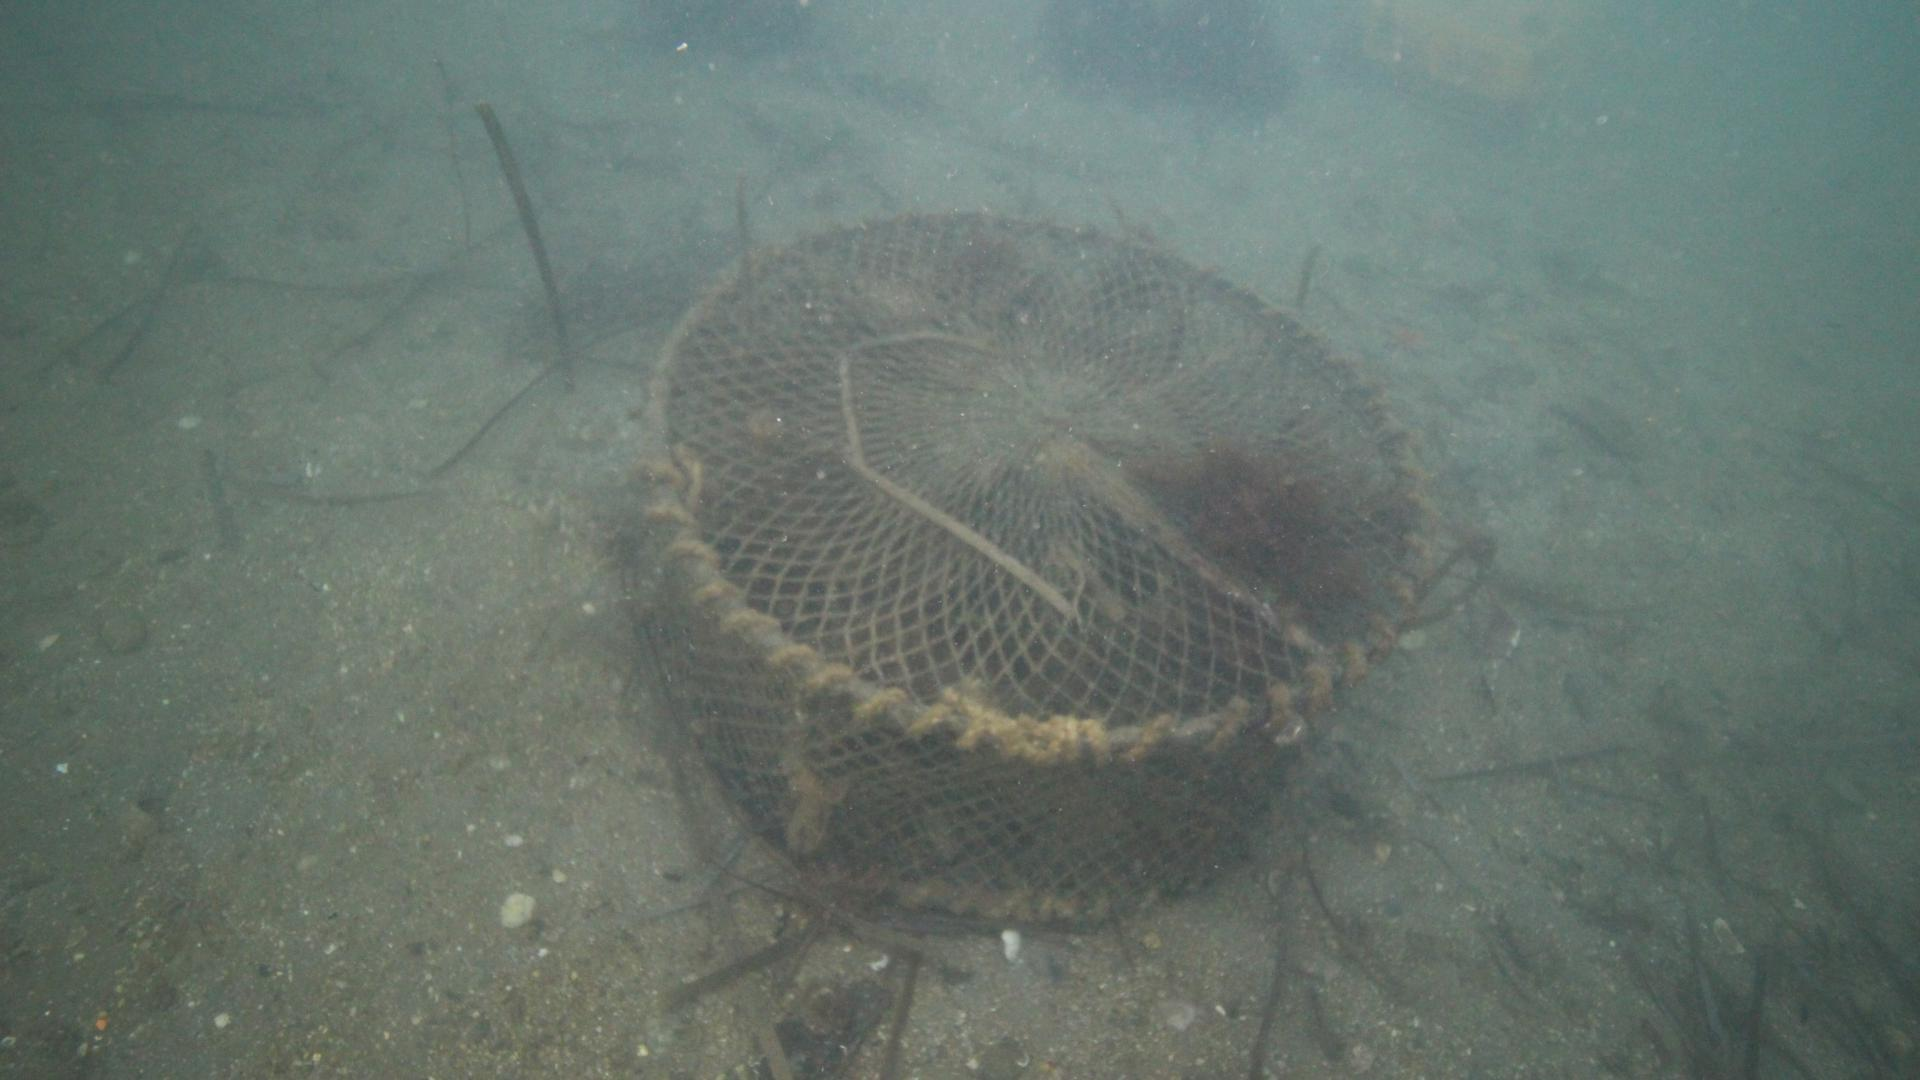circular fish trap: (645, 210, 1443, 924)
